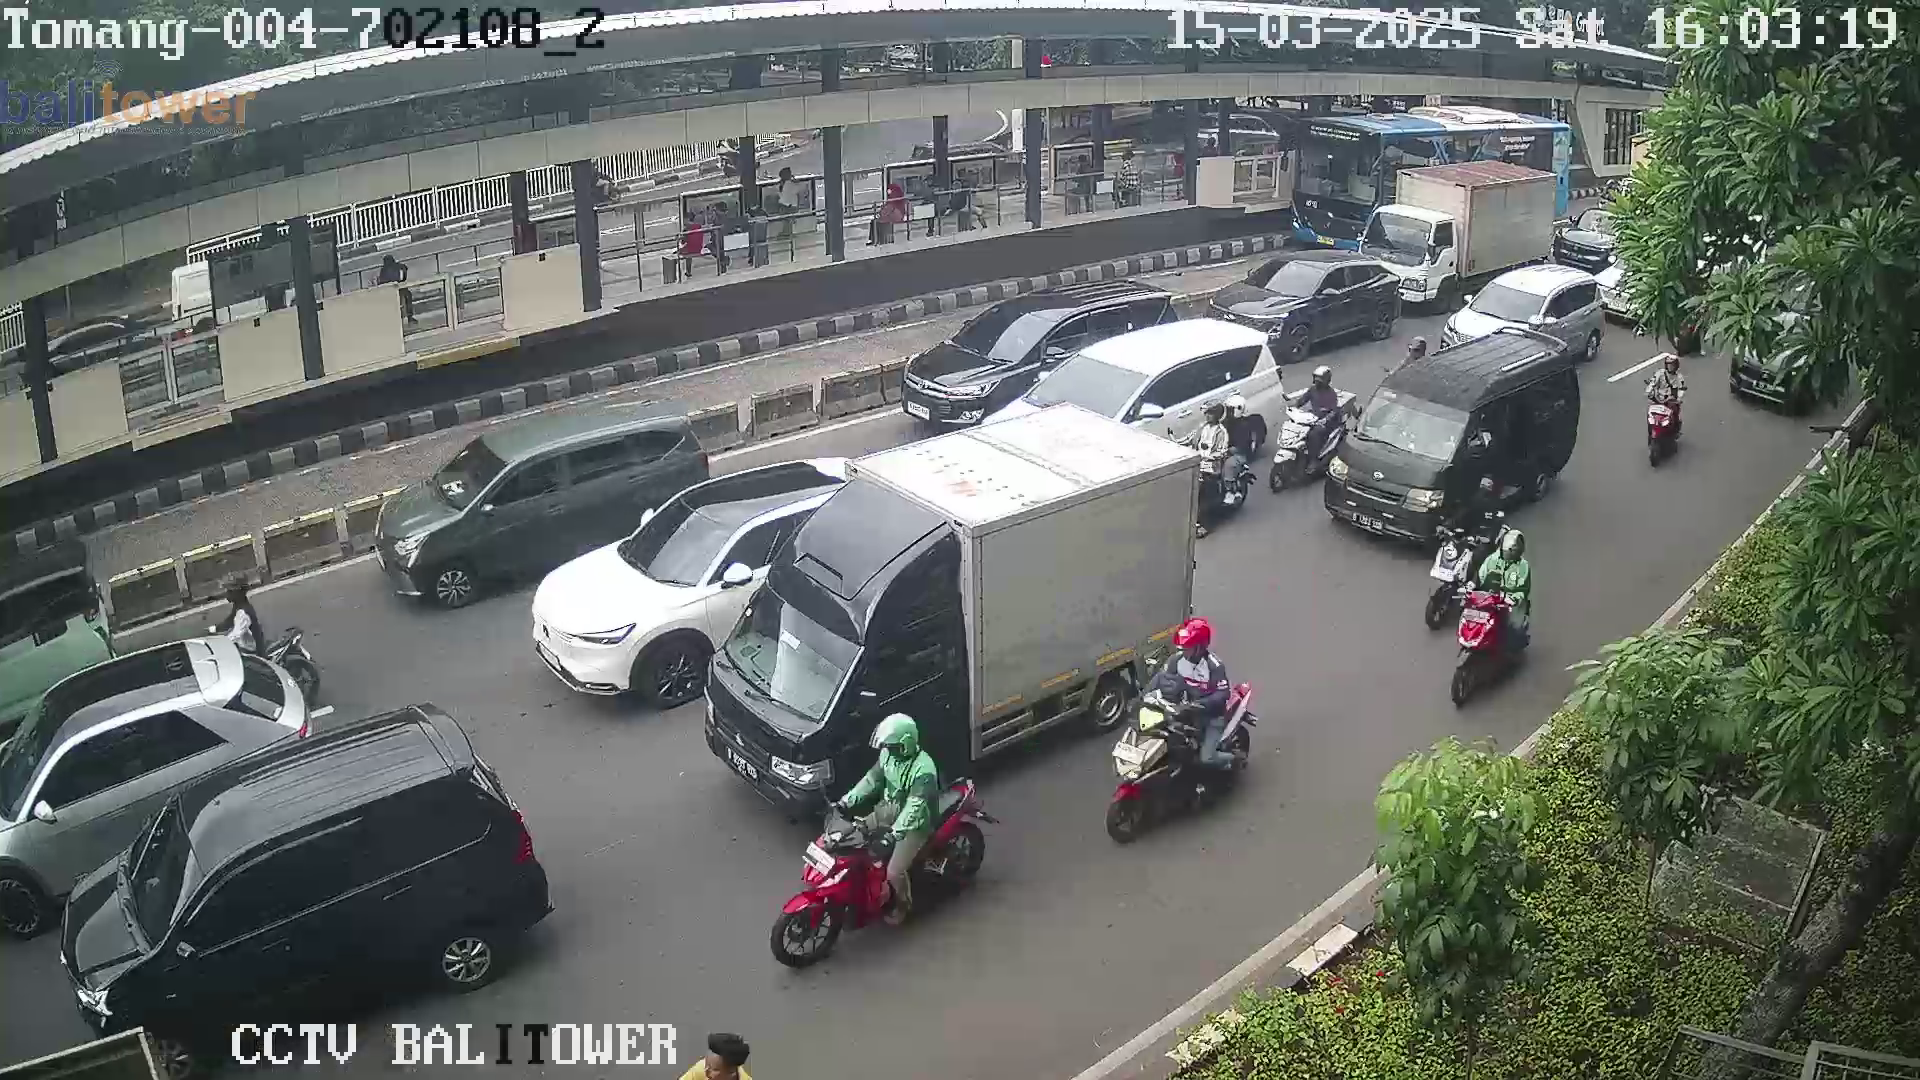half-face helmet: (1163, 618, 1233, 669), (868, 714, 921, 767), (214, 559, 263, 614), (1496, 524, 1533, 569), (1310, 357, 1333, 404), (1196, 398, 1227, 431), (1231, 388, 1255, 429)
no helmet: (690, 1026, 755, 1080)
